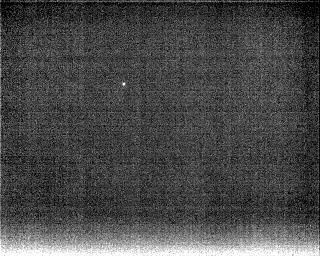BIRD: (120, 79, 128, 89)
